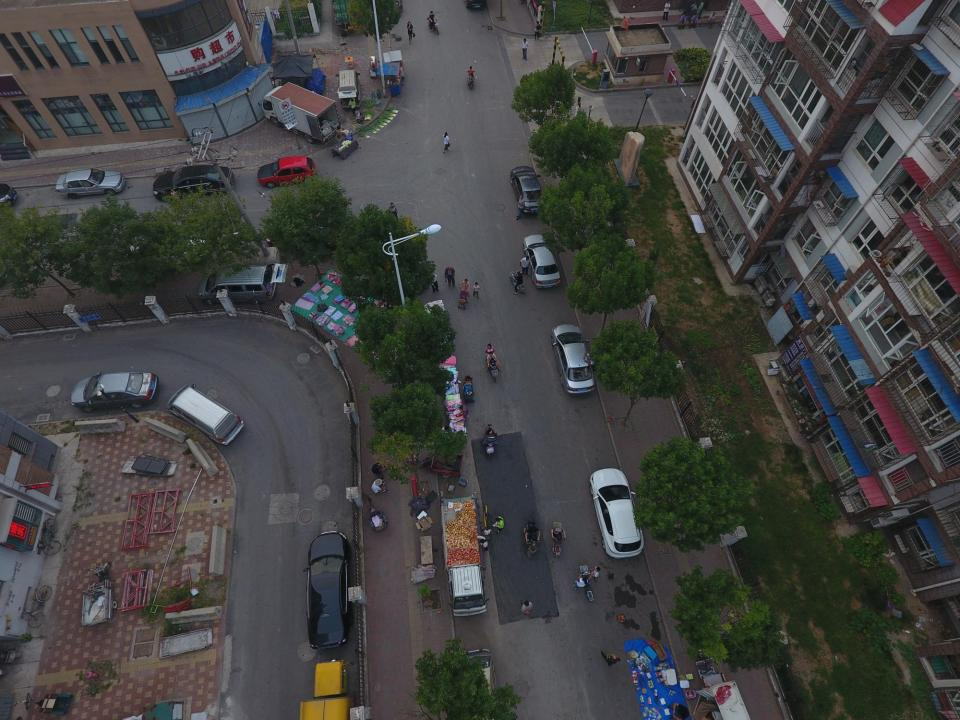car: (588, 467, 645, 559), (69, 370, 159, 413), (550, 323, 598, 396), (152, 164, 233, 201), (521, 233, 563, 289), (55, 168, 125, 201), (256, 156, 316, 189), (509, 165, 546, 217)
truck: (438, 493, 491, 617), (257, 80, 342, 146), (296, 657, 358, 720)
van: (302, 530, 355, 650), (166, 382, 245, 446), (195, 262, 288, 306), (456, 648, 499, 720), (334, 68, 362, 110)
